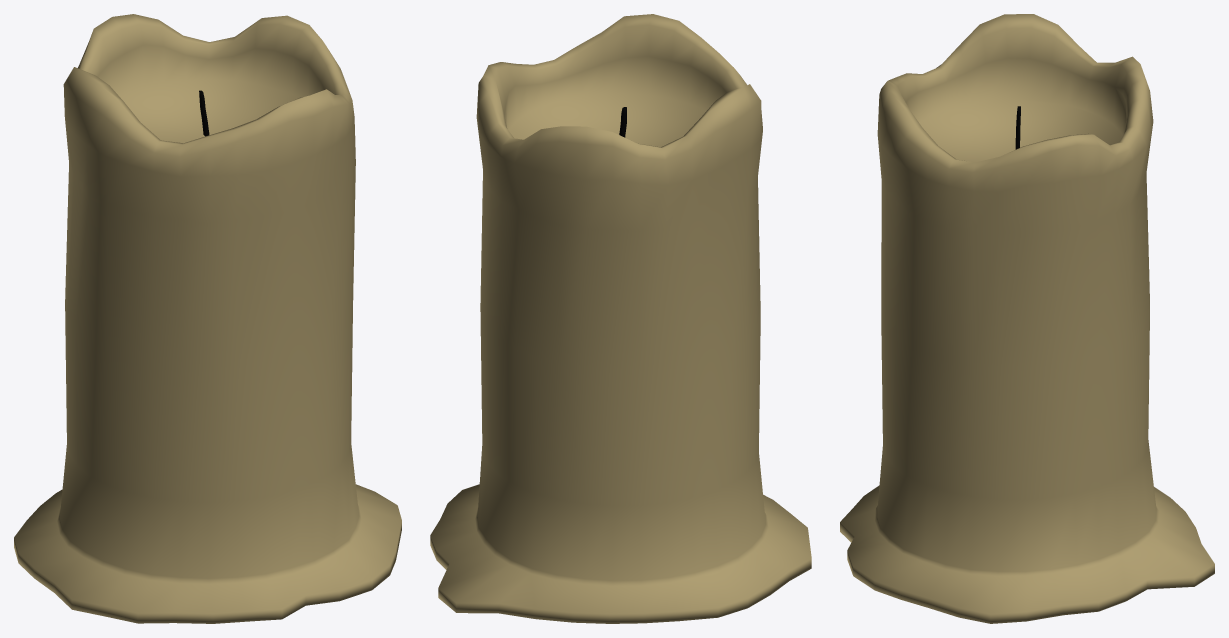
File: candle.fbx
3 renders of one model, left to right at view 1: azimuth 30°, elevation 25°; view 2: azimuth 150°, elevation 25°; view 3: azimuth 270°, elevation 25°, orthographic. The views are drawn at different scales.
Parts seen in each view (by area): view 1: Candle; view 2: Candle; view 3: Candle.
Part boxes in pixels (x1=…): Candle: x1=14, y1=14, x2=401, y2=623; Candle: x1=430, y1=14, x2=811, y2=623; Candle: x1=840, y1=14, x2=1214, y2=623.
Size of the model in its own units: 171 by 240 by 171.
